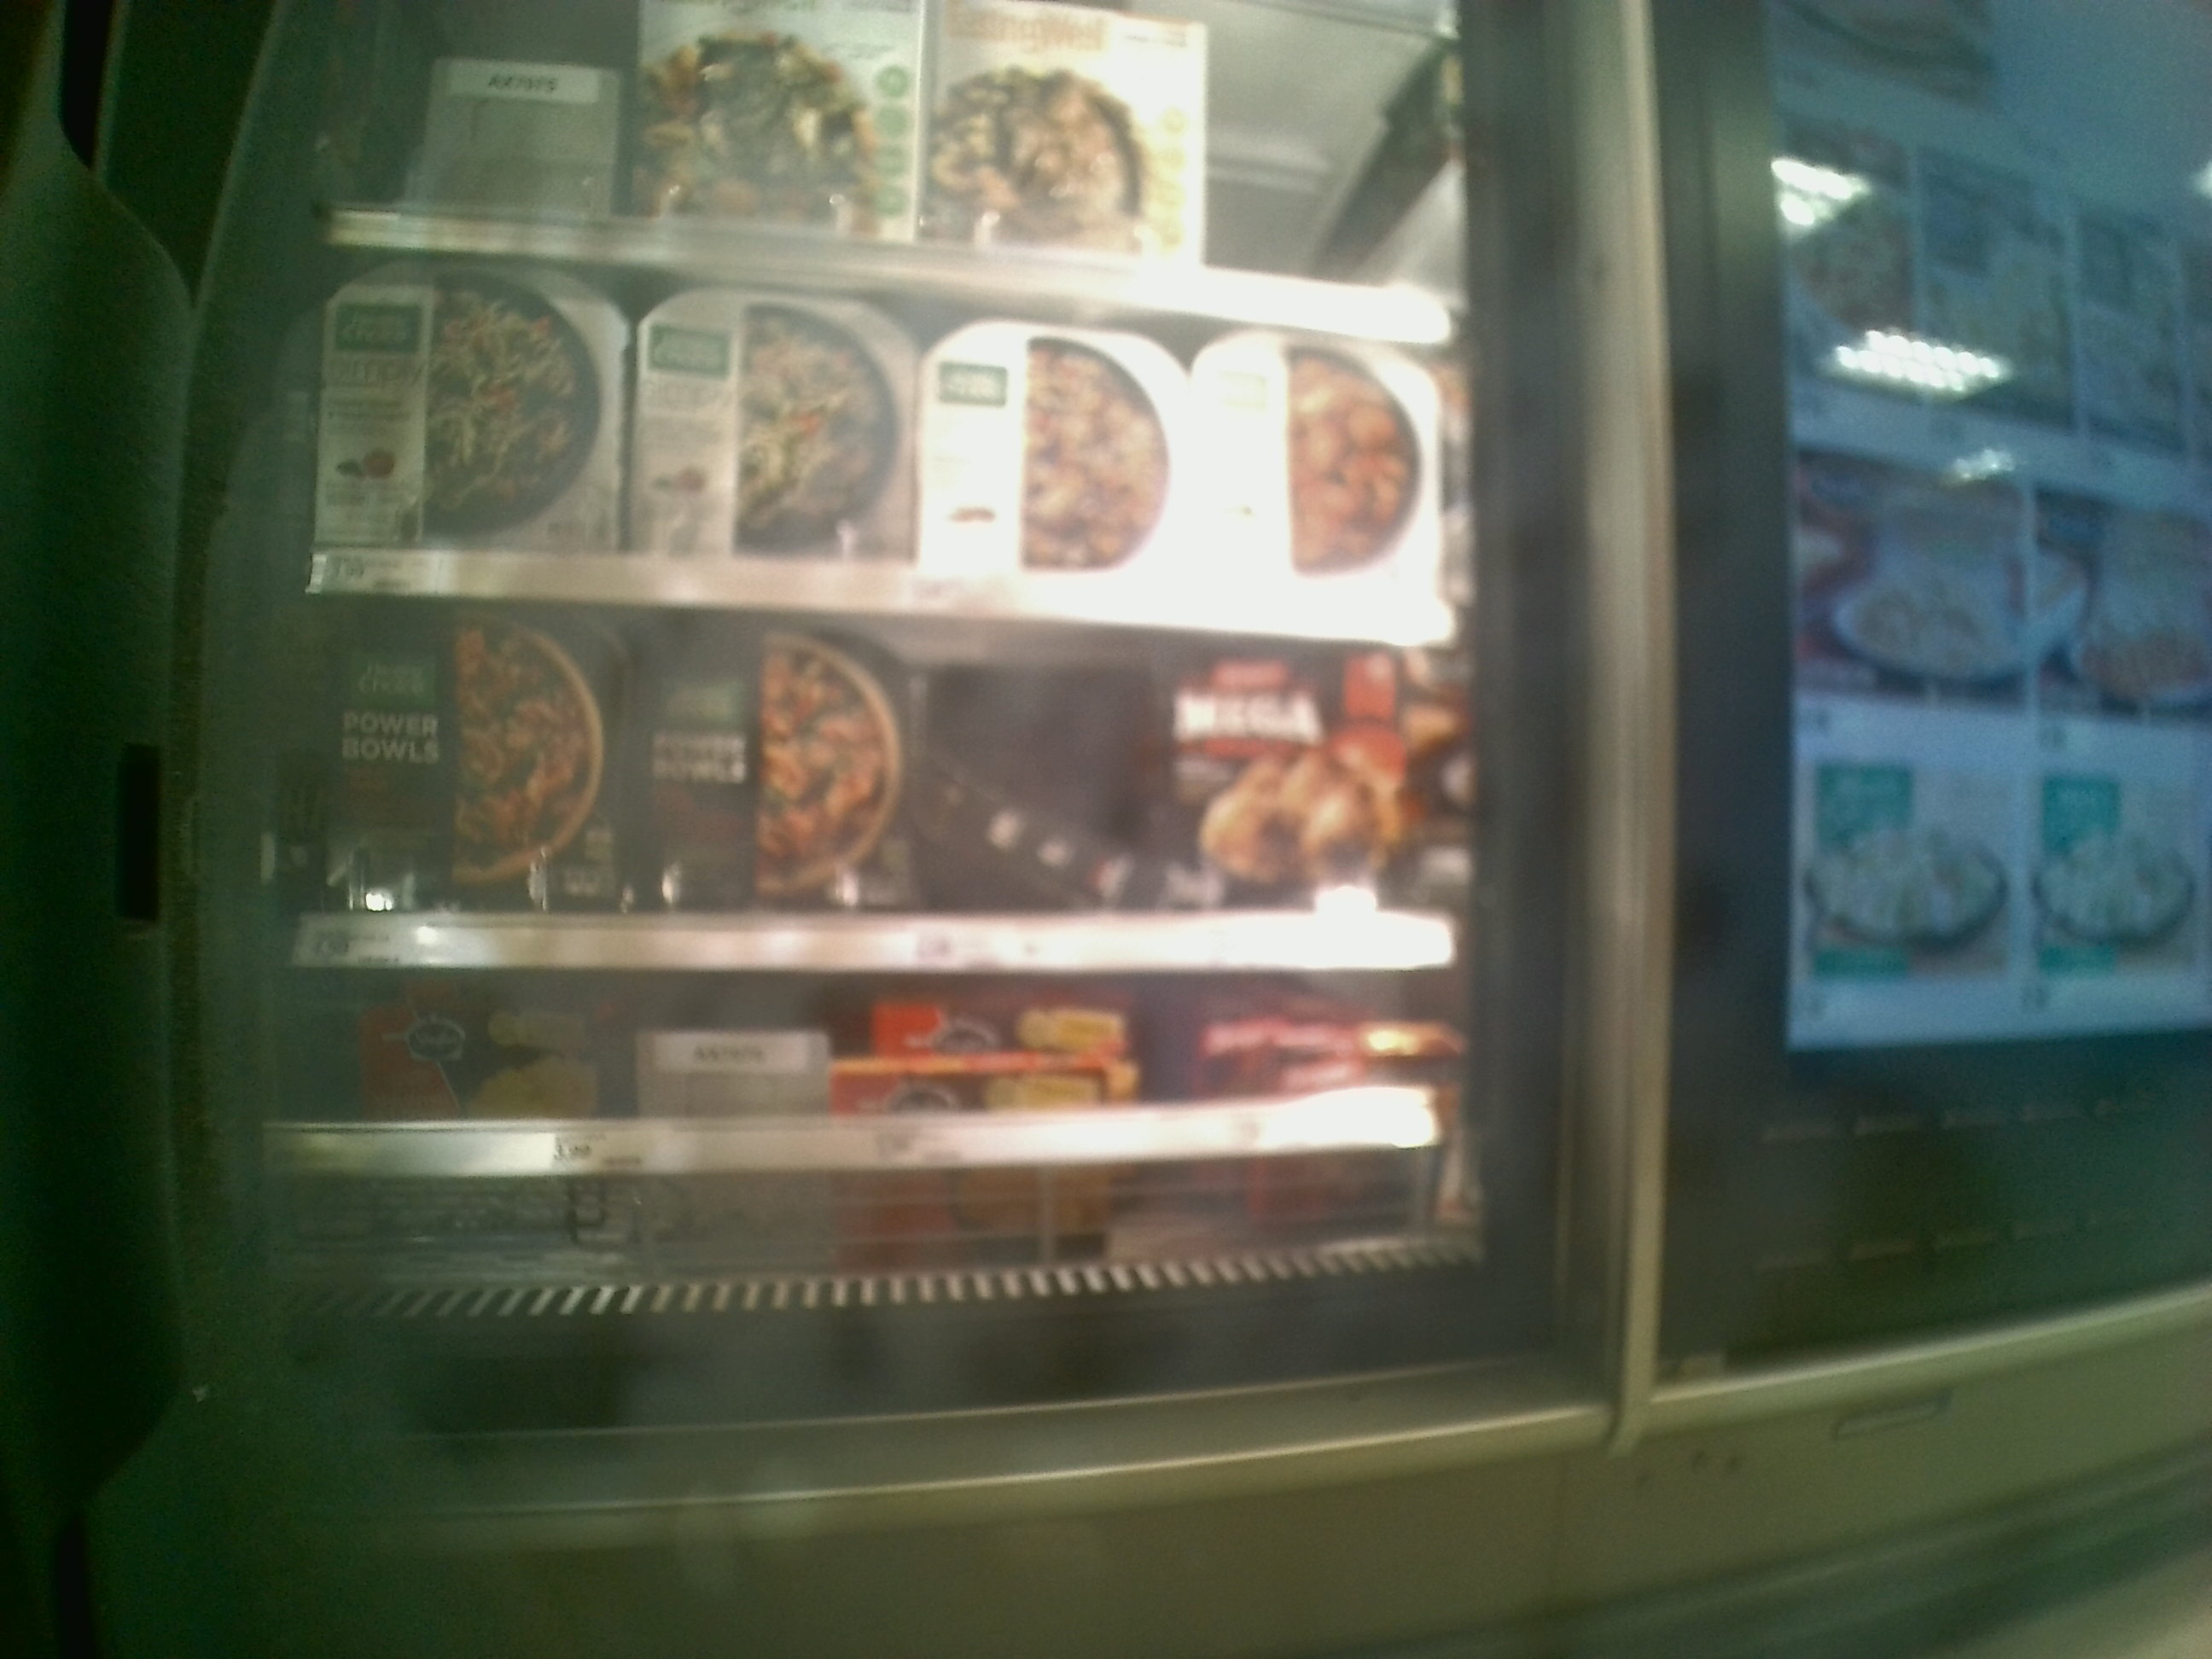shelf: (294, 239, 1463, 641), (298, 598, 1468, 974), (275, 979, 1486, 1281)
